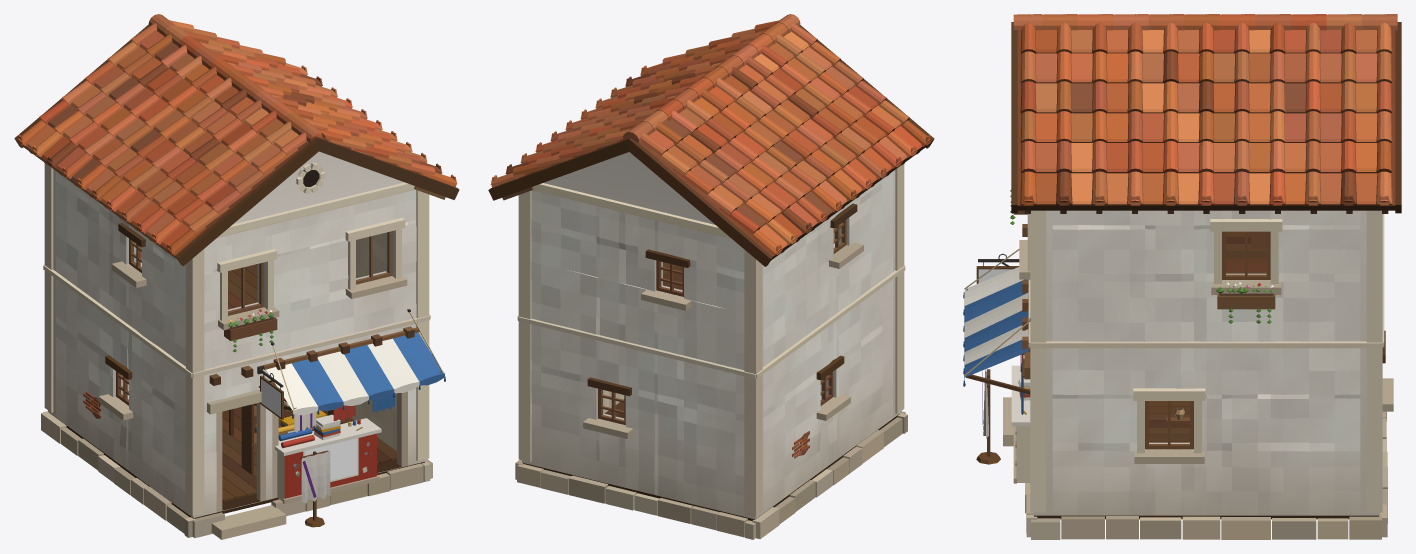
File: shop_tailor.glb
The picture shows the model from 3 angles, left to right: view 1: azimuth 30°, elevation 25°; view 2: azimuth 150°, elevation 25°; view 3: azimuth 270°, elevation 25°; orthographic projection. The views are drawn at different scales.
Parts seen in each view (by area): view 1: House, Walls, Rooms; view 2: Walls, House, Rooms; view 3: House, Walls, Rooms.
Boxes of the visible parts, x1,y1,x2,y2 form: House: (14, 14, 459, 539); Walls: (48, 151, 425, 517); Rooms: (127, 233, 396, 502); Walls: (522, 152, 900, 519); House: (488, 14, 934, 539); Rooms: (604, 228, 834, 418); House: (963, 14, 1401, 539); Walls: (1033, 210, 1379, 515); Rooms: (1149, 231, 1266, 442).
Bounding box in the file's own units: 4.44 × 5.63 × 4.93.
7 materials, 7 textured.
